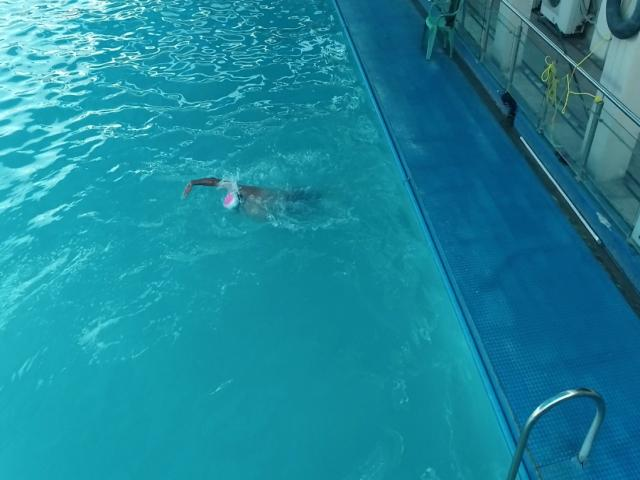swimming: (185, 176, 342, 229)
